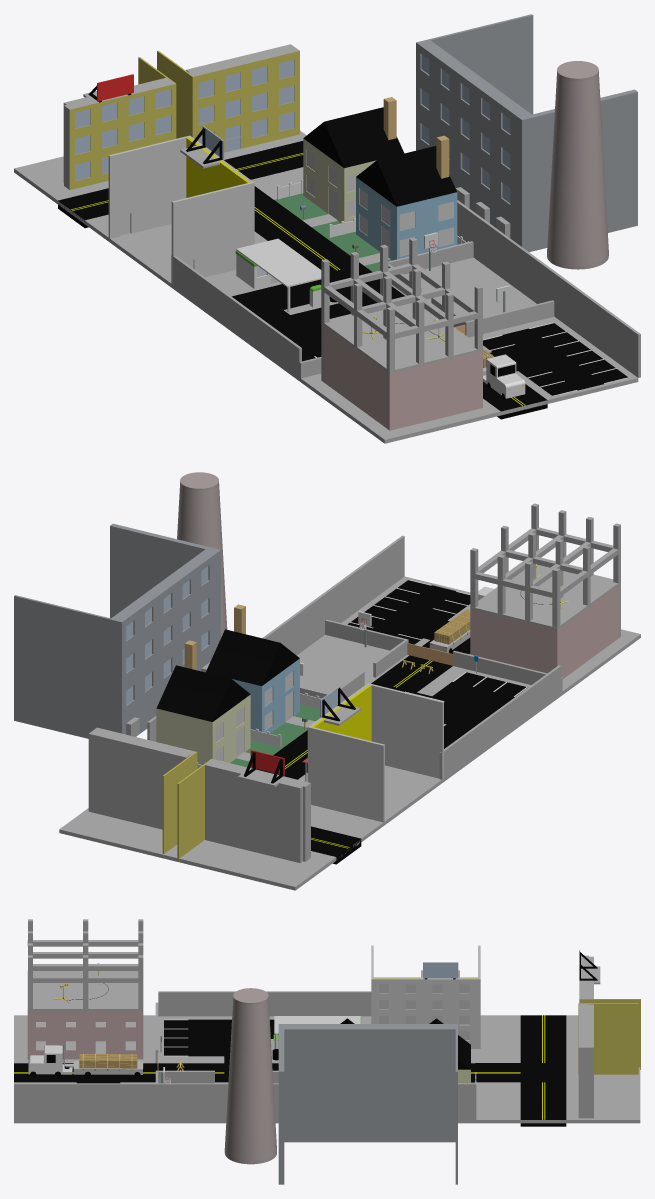
The model's file is city.glb.
3 renders of one model, top to bottom at view 1: azimuth 30°, elevation 25°; view 2: azimuth 150°, elevation 25°; view 3: azimuth 270°, elevation 25°, orthographic. The views are drawn at different scales.
Visible parts, largest first — view 1: Object_2; view 2: Object_2; view 3: Object_2.
Boxes of the visible parts, <box> form: Object_2: <box>14,14,640,443</box>; Object_2: <box>14,472,640,890</box>; Object_2: <box>14,919,640,1184</box>.
Size of the model in its own units: 38.8 by 17.72 by 60.85.
